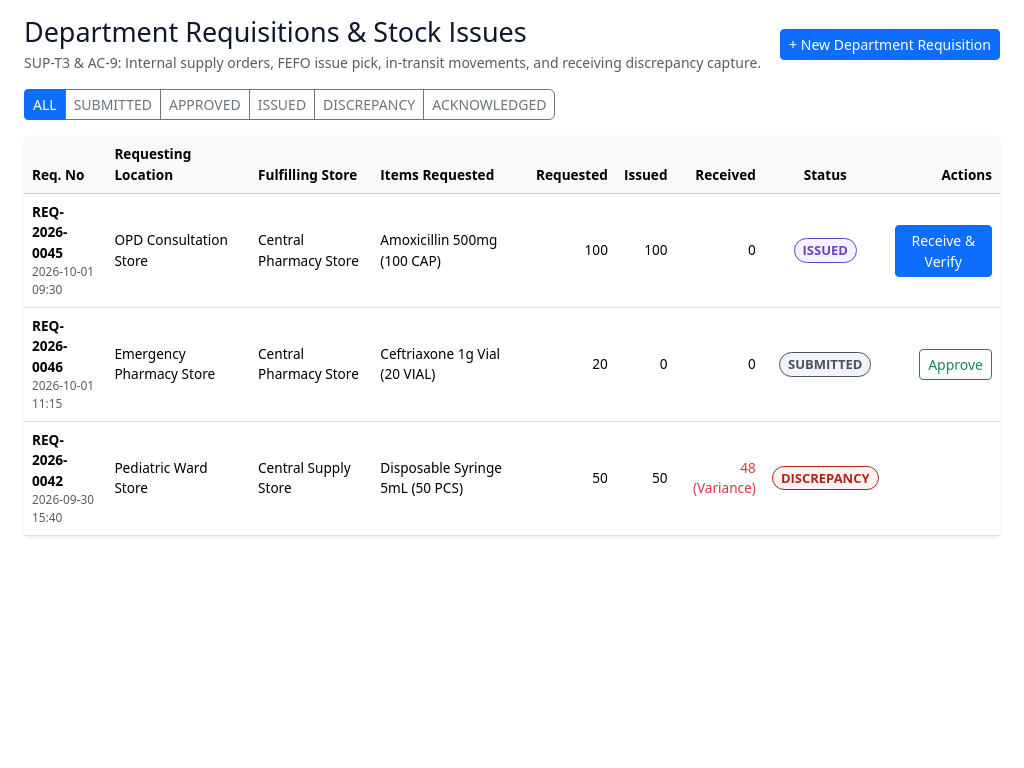
RequisitionsPage (todo §4.3, SUP-T3, AC-9) › verifies AC-9 discrepancy tracking when received count differs from issued
Click Receive on ISSUED requisition
Click the button with aria-label "Receive REQ-2026-0045" at (943, 250), box [895, 224, 992, 276]
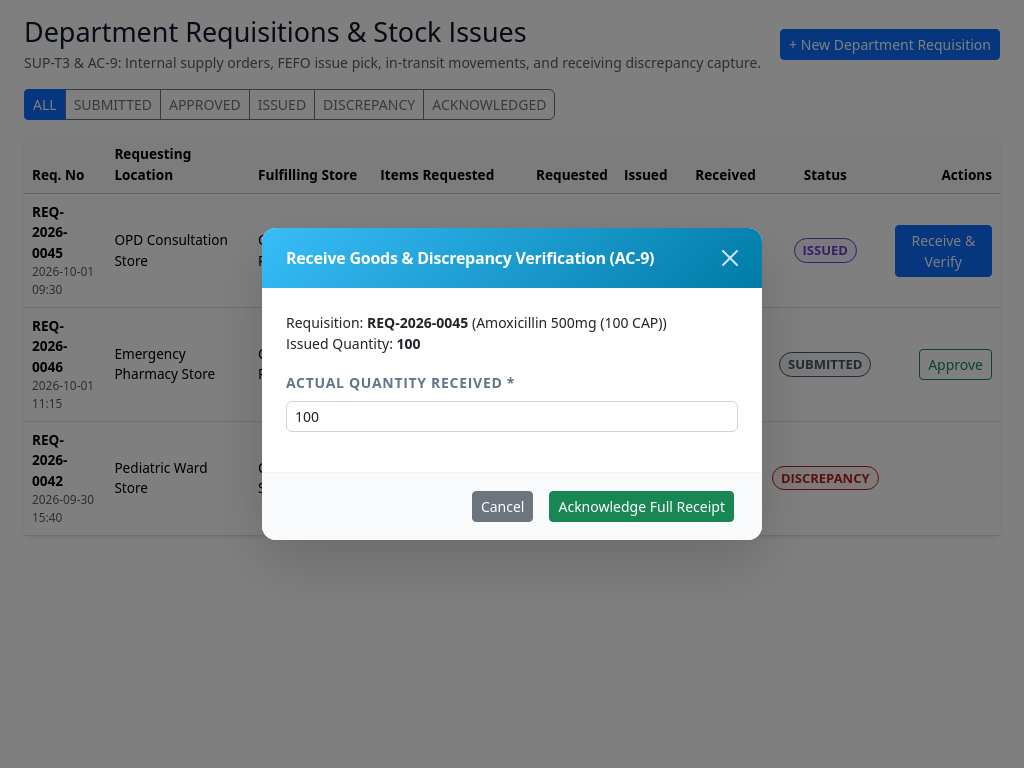
Now the text "Receive Goods & Discrepancy Verification (AC-9)" is shown, box [286, 246, 654, 270]
Change received qty from 100 to 95
Replace the text in the number field labelled "Actual Quantity Received *" with "95" at (512, 416), box [286, 401, 738, 432]
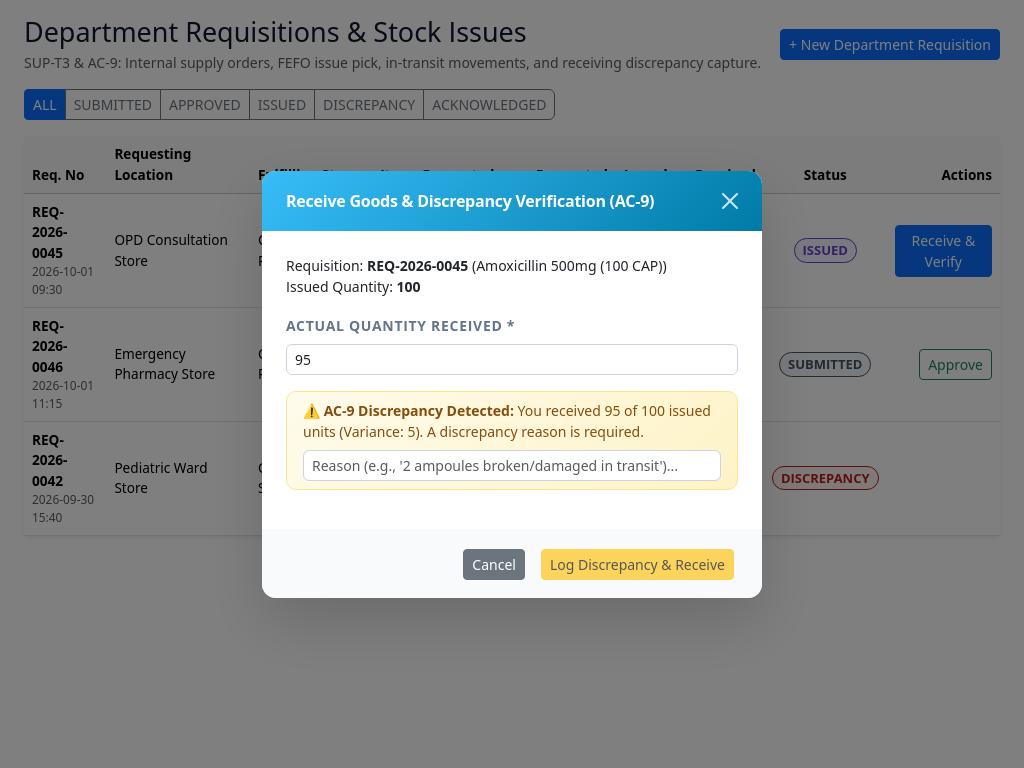
Now the text "AC-9 Discrepancy Detected:" is shown, box [324, 400, 514, 420]
